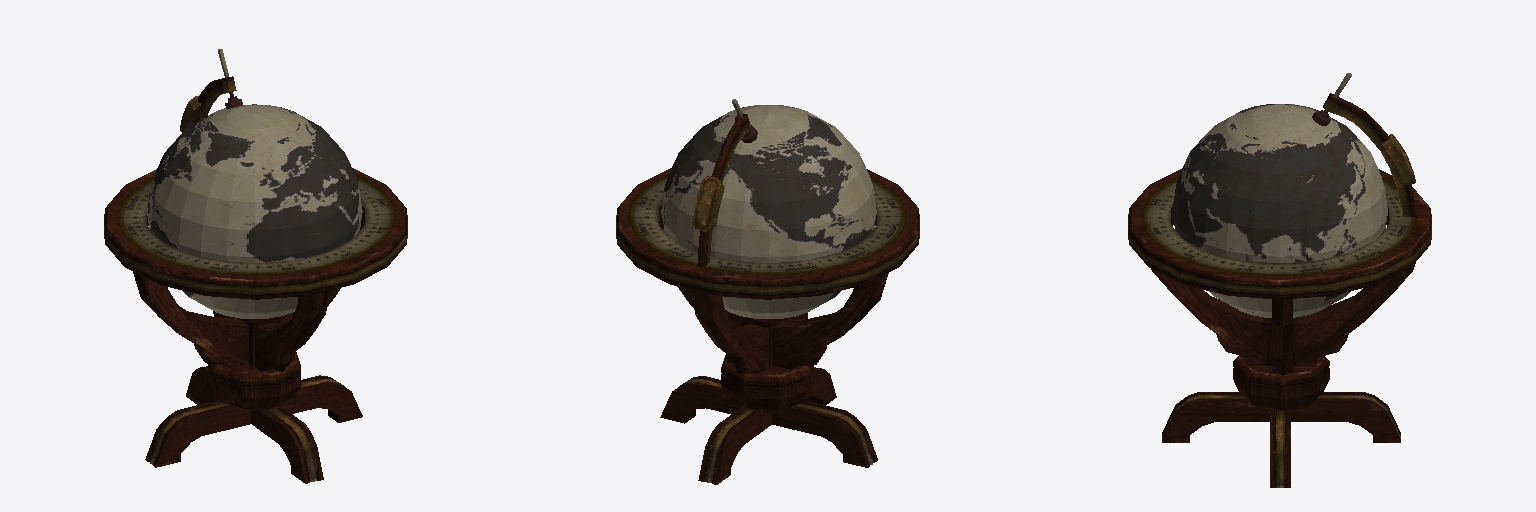
3 views of the same model, side by side, from view 1: azimuth 30°, elevation 25°; view 2: azimuth 150°, elevation 25°; view 3: azimuth 270°, elevation 25° (orthographic).
Parts seen in each view (by area): view 1: Object029; view 2: Object029; view 3: Object029.
Boxes of the visible parts, <box> form: Object029: <box>104,49,407,483</box>; Object029: <box>616,99,919,484</box>; Object029: <box>1128,73,1431,487</box>.
Size of the model in its own units: 0.1131 by 0.148 by 0.1115.
Materials: 1 (1 with a texture image).